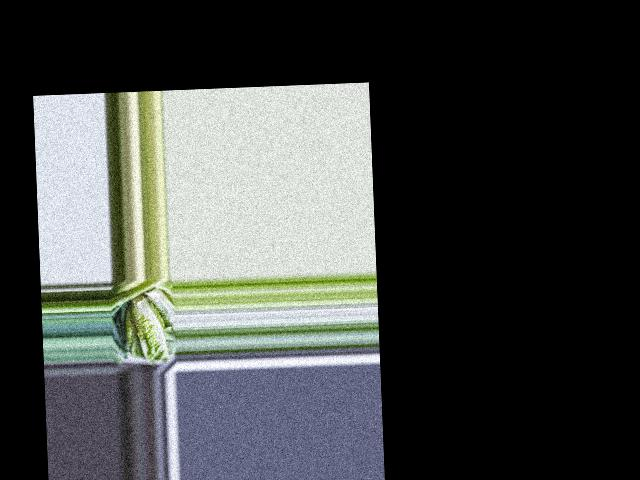lettuce: (123, 293, 169, 364)
